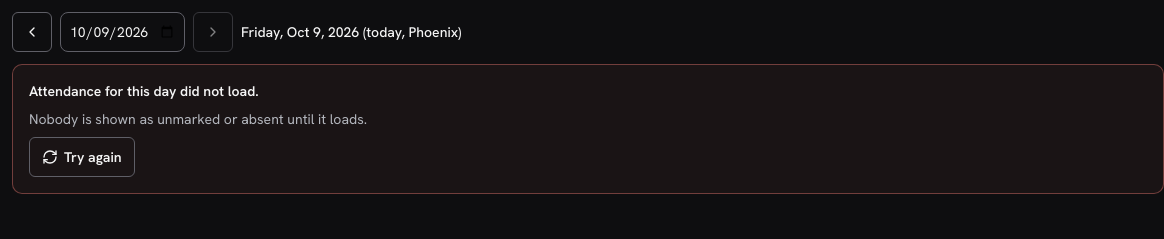
Scenario: Attendance: one day, one tap › a failed day read is an error with Retry, never 'nobody expected'
Expected: the message shows "did not load", [29, 82, 259, 100]
Expected: the text "Ann Lee" is not shown
Step 1. Click the button "Try again" → coordinates (82, 157), box [29, 137, 135, 177]
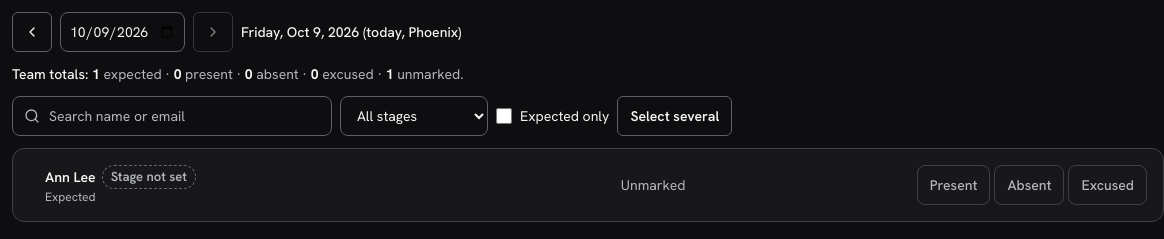
Now the text "Ann Lee" is shown, box [45, 167, 96, 187]
